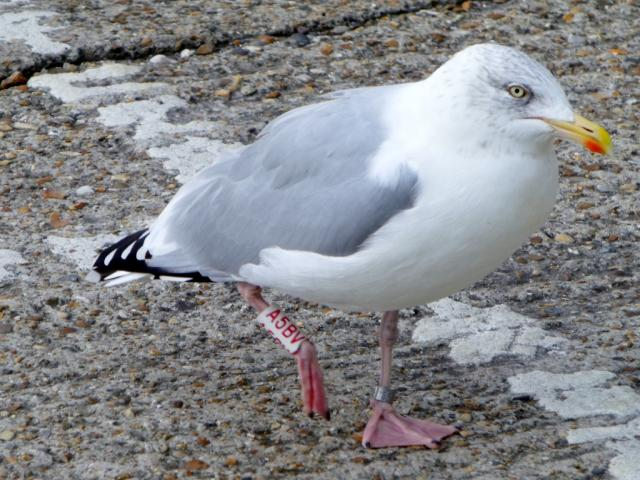Bird: (87, 42, 612, 447)
